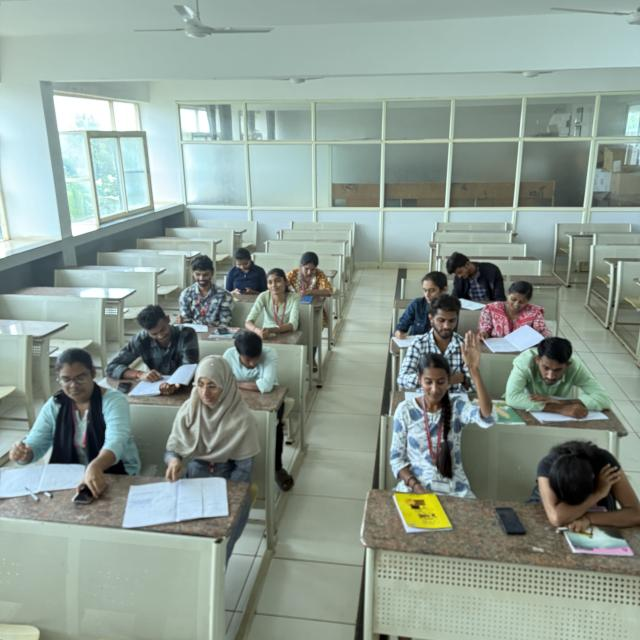Hand Rising: (393, 330, 493, 459)
Reading: (146, 353, 255, 519), (503, 336, 612, 425), (107, 304, 195, 395), (479, 280, 544, 352), (284, 252, 336, 301)
Sleeping: (530, 433, 639, 534)
Using Phone: (9, 347, 129, 508), (223, 248, 269, 298)
Writing: (168, 254, 235, 337), (394, 269, 445, 348)
